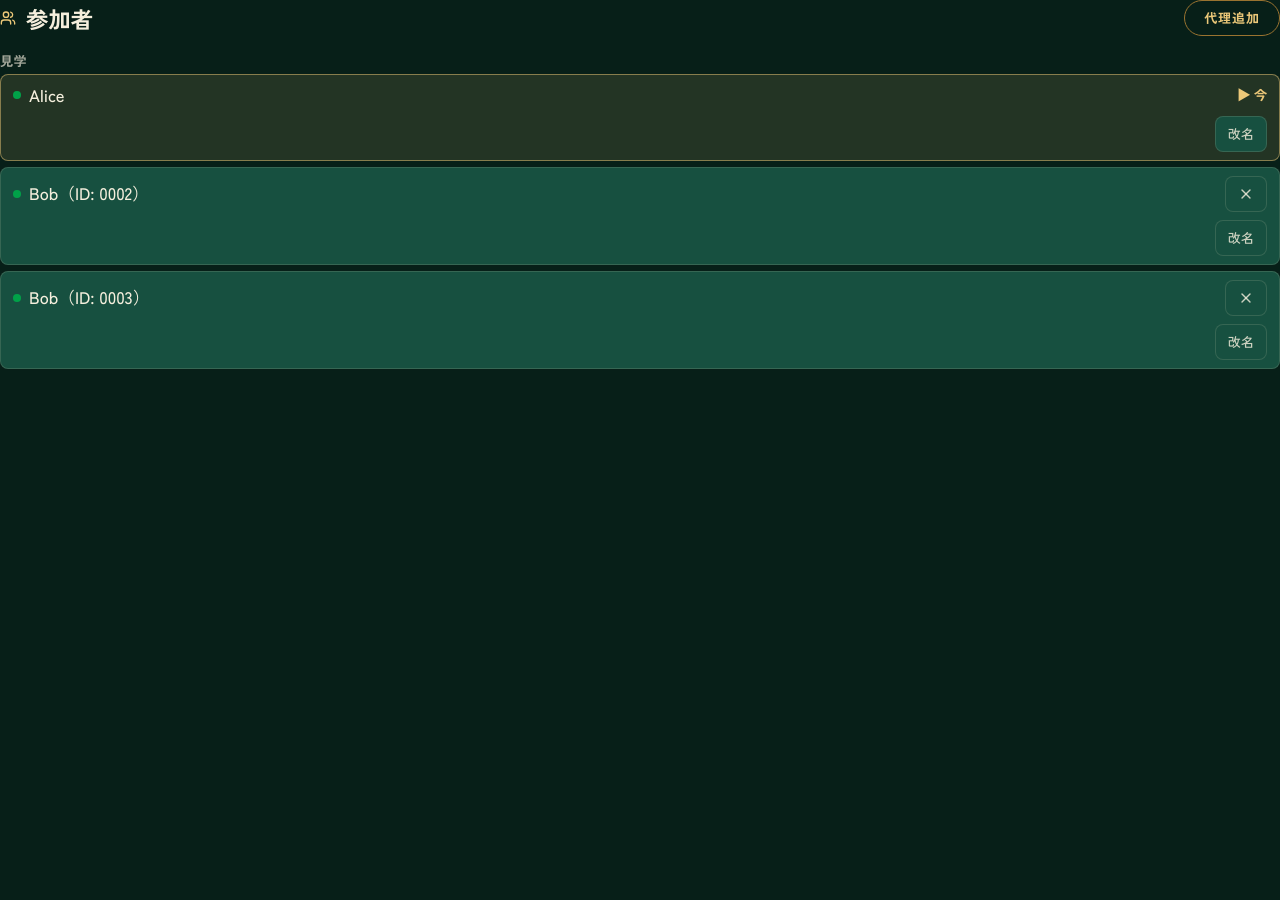
RosterPanel 同名参加者の区別 › 確認ダイアログでも同名の2名を区別できる
Click the button named "Bob（ID: 0003） を退出させる": (1246, 298) [1225,280,1267,316]
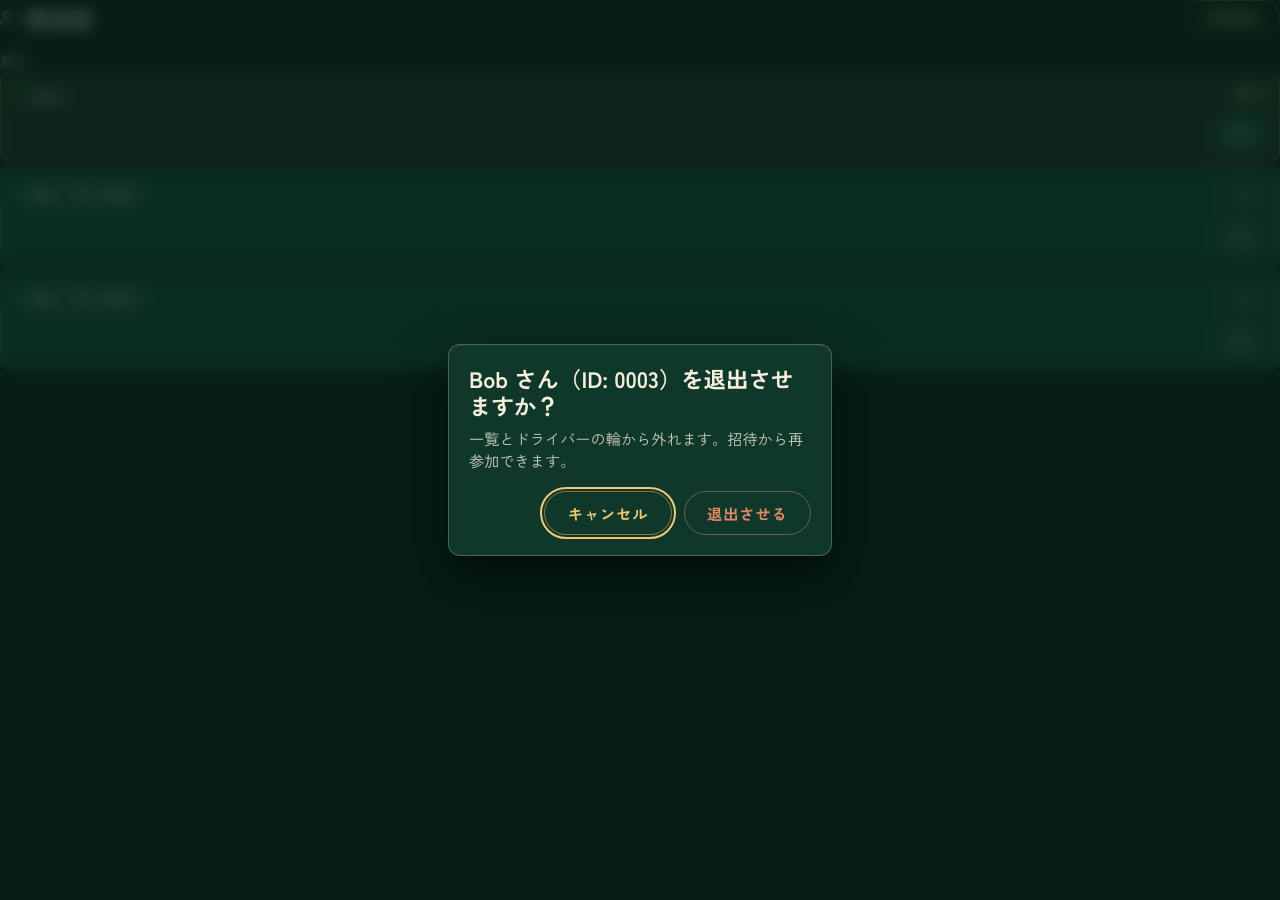
Result: the dialog shows "Bob さん（ID: 0003）" at [469,362,793,421]
